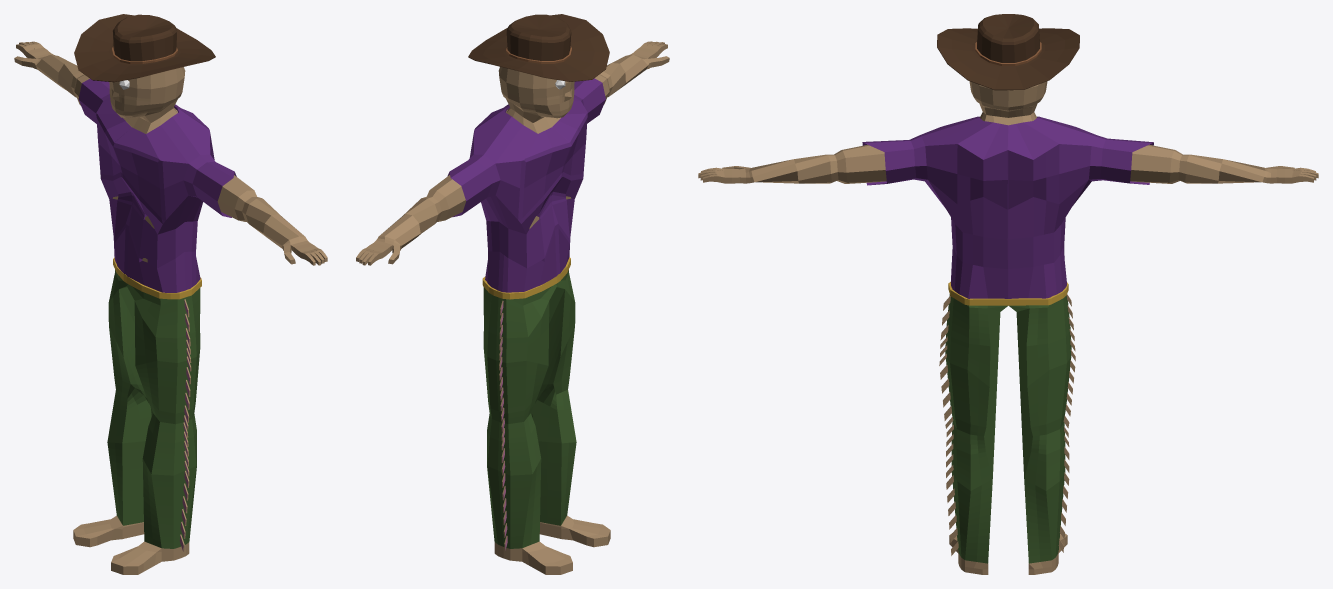
Rendered from czowiek_z_ubraniem.fbx.
The picture shows the model from 3 angles, left to right: view 1: azimuth 30°, elevation 25°; view 2: azimuth 150°, elevation 25°; view 3: azimuth 270°, elevation 25°; orthographic projection. The views are drawn at different scales.
Visible parts, largest first — view 1: Cube; view 2: Cube; view 3: Cube.
Boxes of the visible parts, left/top/right/bottom form: Cube: left=14, top=14, right=327, bottom=574; Cube: left=356, top=14, right=669, bottom=574; Cube: left=698, top=14, right=1318, bottom=574.
Size of the model in its own units: 3 by 12.42 by 12.96.
